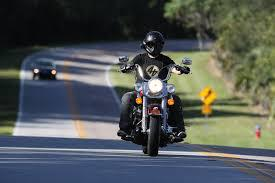motorcycle: (115, 52, 194, 162)
